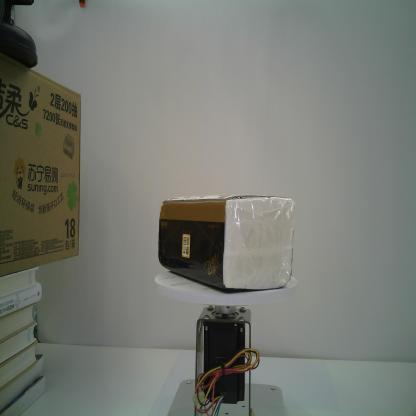Tissue: (157, 192, 295, 293)
